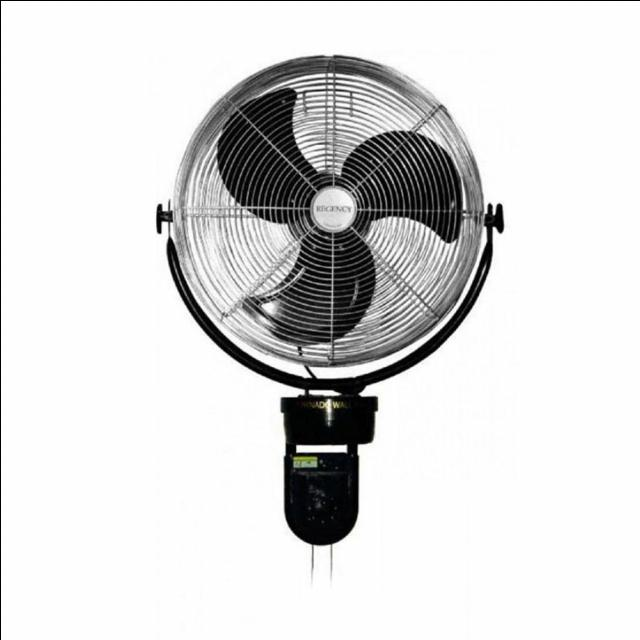fan: (154, 42, 506, 584)
